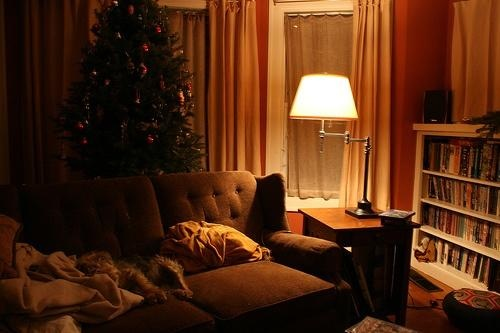dog: (78, 249, 194, 306)
sofa: (1, 171, 374, 333)
